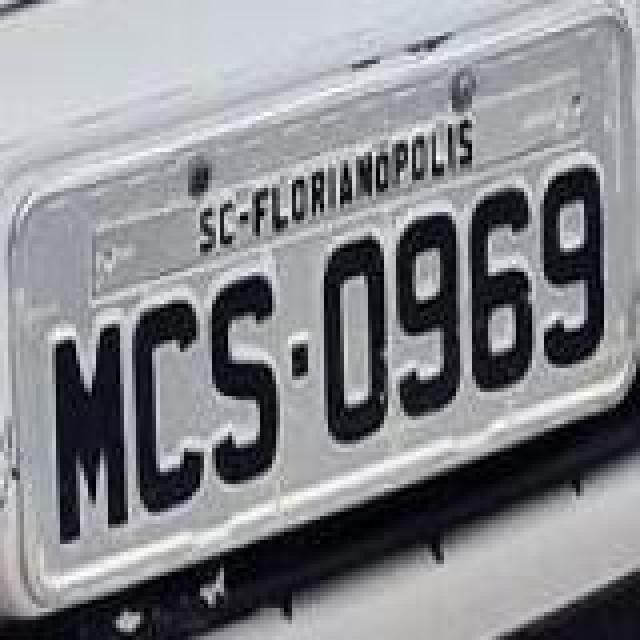6: (468, 182, 540, 394)
9: (396, 206, 468, 418), (538, 164, 606, 372)
C: (128, 296, 208, 520)
M: (48, 318, 128, 546)
O: (316, 232, 388, 448)
S: (208, 268, 280, 492)
